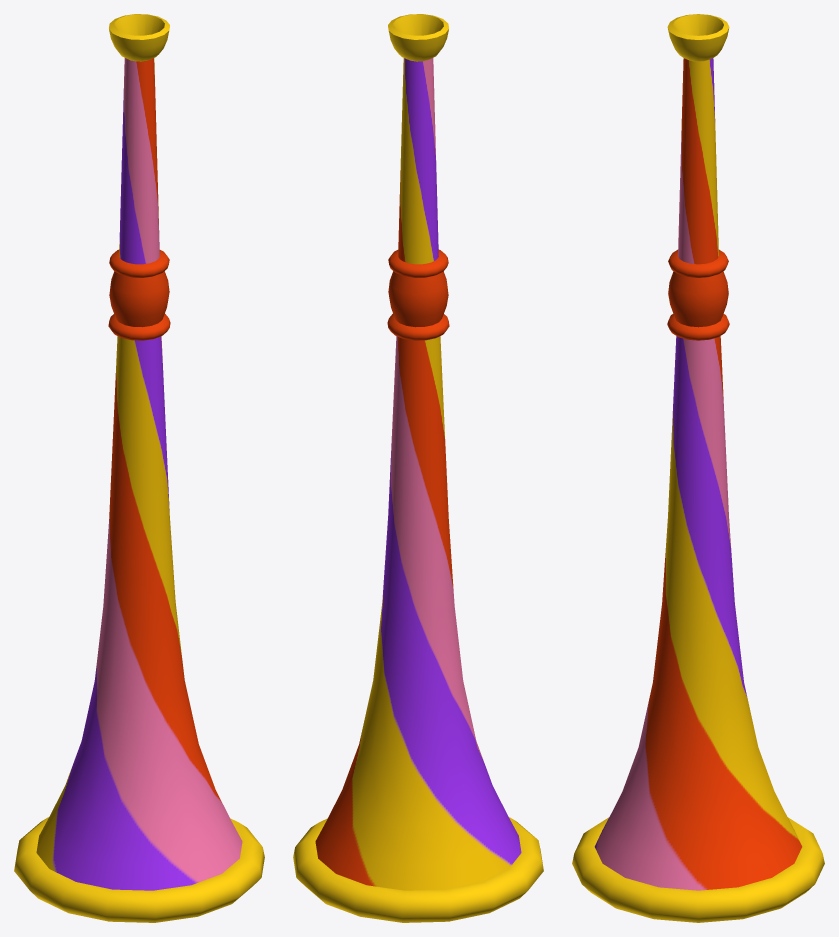
File: vuvuzela.FBX
3 views of the same model, side by side, from view 1: azimuth 30°, elevation 25°; view 2: azimuth 150°, elevation 25°; view 3: azimuth 270°, elevation 25° (orthographic).
Parts seen in each view (by area): view 1: vuvuzela; view 2: vuvuzela; view 3: vuvuzela.
Boxes of the visible parts, left/top/right/bottom form: vuvuzela: left=14, top=14, right=264, bottom=922; vuvuzela: left=293, top=14, right=543, bottom=922; vuvuzela: left=572, top=14, right=824, bottom=922.
Bounding box in the file's own units: 0.2049 × 0.2049 × 0.7604.
